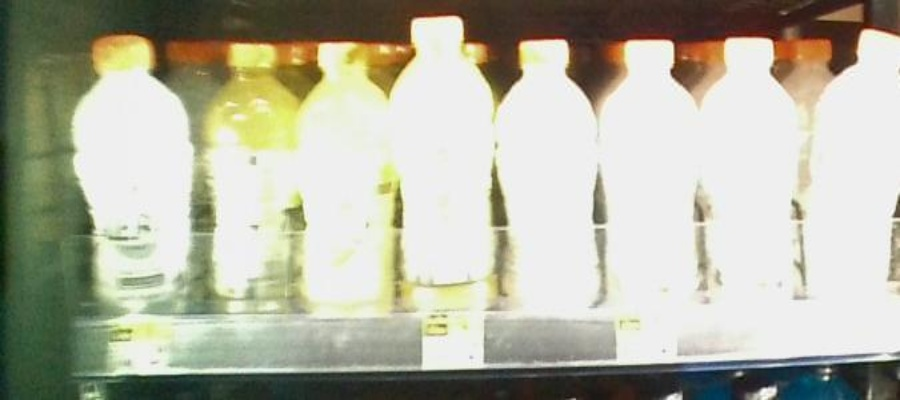bottle: (73, 30, 192, 324), (395, 19, 499, 329), (703, 27, 804, 335), (503, 22, 599, 338), (604, 35, 699, 337), (812, 14, 900, 322), (300, 40, 392, 324), (204, 46, 295, 321)
